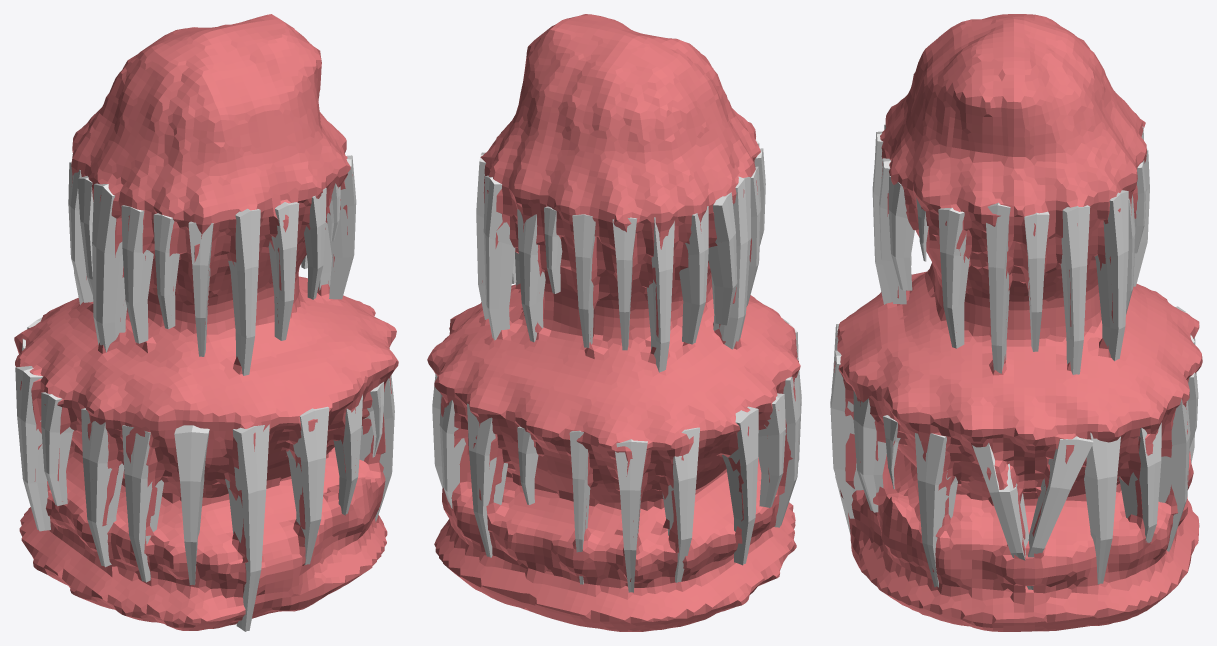
File: 05-StalagmiteDrip.fbx
3 renders of one model, left to right at view 1: azimuth 30°, elevation 25°; view 2: azimuth 150°, elevation 25°; view 3: azimuth 270°, elevation 25°, orthographic. The views are drawn at different scales.
Visible parts, largest first — view 1: StalagmiteDripSmall, StalagmiteDripSmallDrip; view 2: StalagmiteDripSmall, StalagmiteDripSmallDrip; view 3: StalagmiteDripSmall, StalagmiteDripSmallDrip.
Boxes of the visible parts, bbox=[...] form: StalagmiteDripSmall: bbox=[14, 14, 398, 630]; StalagmiteDripSmallDrip: bbox=[15, 155, 394, 631]; StalagmiteDripSmall: bbox=[427, 14, 800, 631]; StalagmiteDripSmallDrip: bbox=[432, 139, 801, 592]; StalagmiteDripSmall: bbox=[834, 14, 1202, 631]; StalagmiteDripSmallDrip: bbox=[830, 124, 1198, 589].
Bounding box in the file's own units: 221 × 341 × 211.
